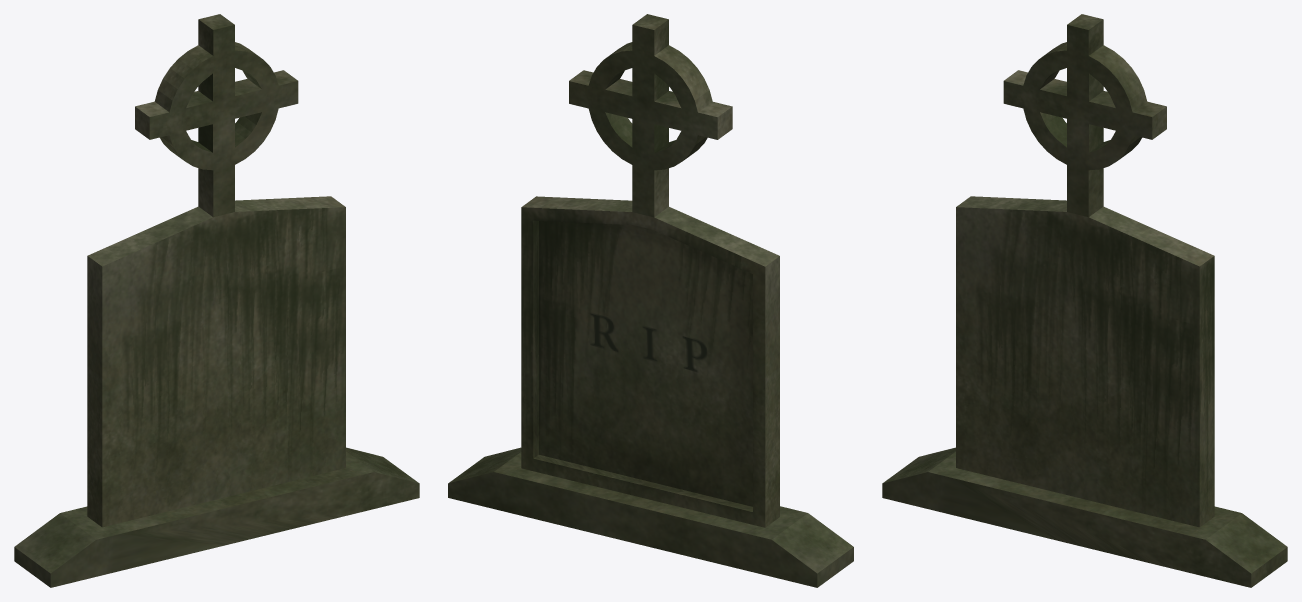
File: grave_02.fbx
The picture shows the model from 3 angles, left to right: view 1: azimuth 30°, elevation 25°; view 2: azimuth 150°, elevation 25°; view 3: azimuth 330°, elevation 25°; orthographic projection.
Parts seen in each view (by area): view 1: grave 2; view 2: grave 2; view 3: grave 2.
Boxes of the visible parts, x1=… form: grave 2: x1=14, y1=14, x2=419, y2=587; grave 2: x1=448, y1=14, x2=853, y2=587; grave 2: x1=882, y1=14, x2=1287, y2=587.
Size of the model in its own units: 0.8885 by 1.17 by 0.152.
